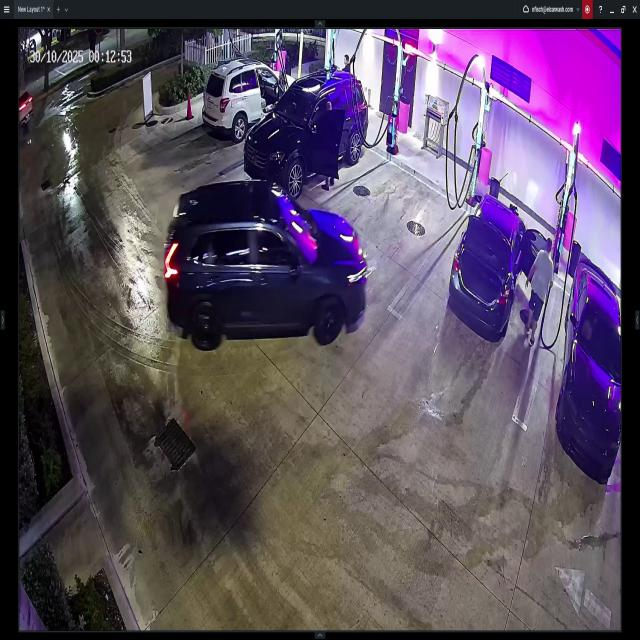Car: (167, 186, 366, 348), (453, 185, 554, 346), (246, 63, 367, 193), (559, 254, 622, 482), (204, 52, 297, 136)
